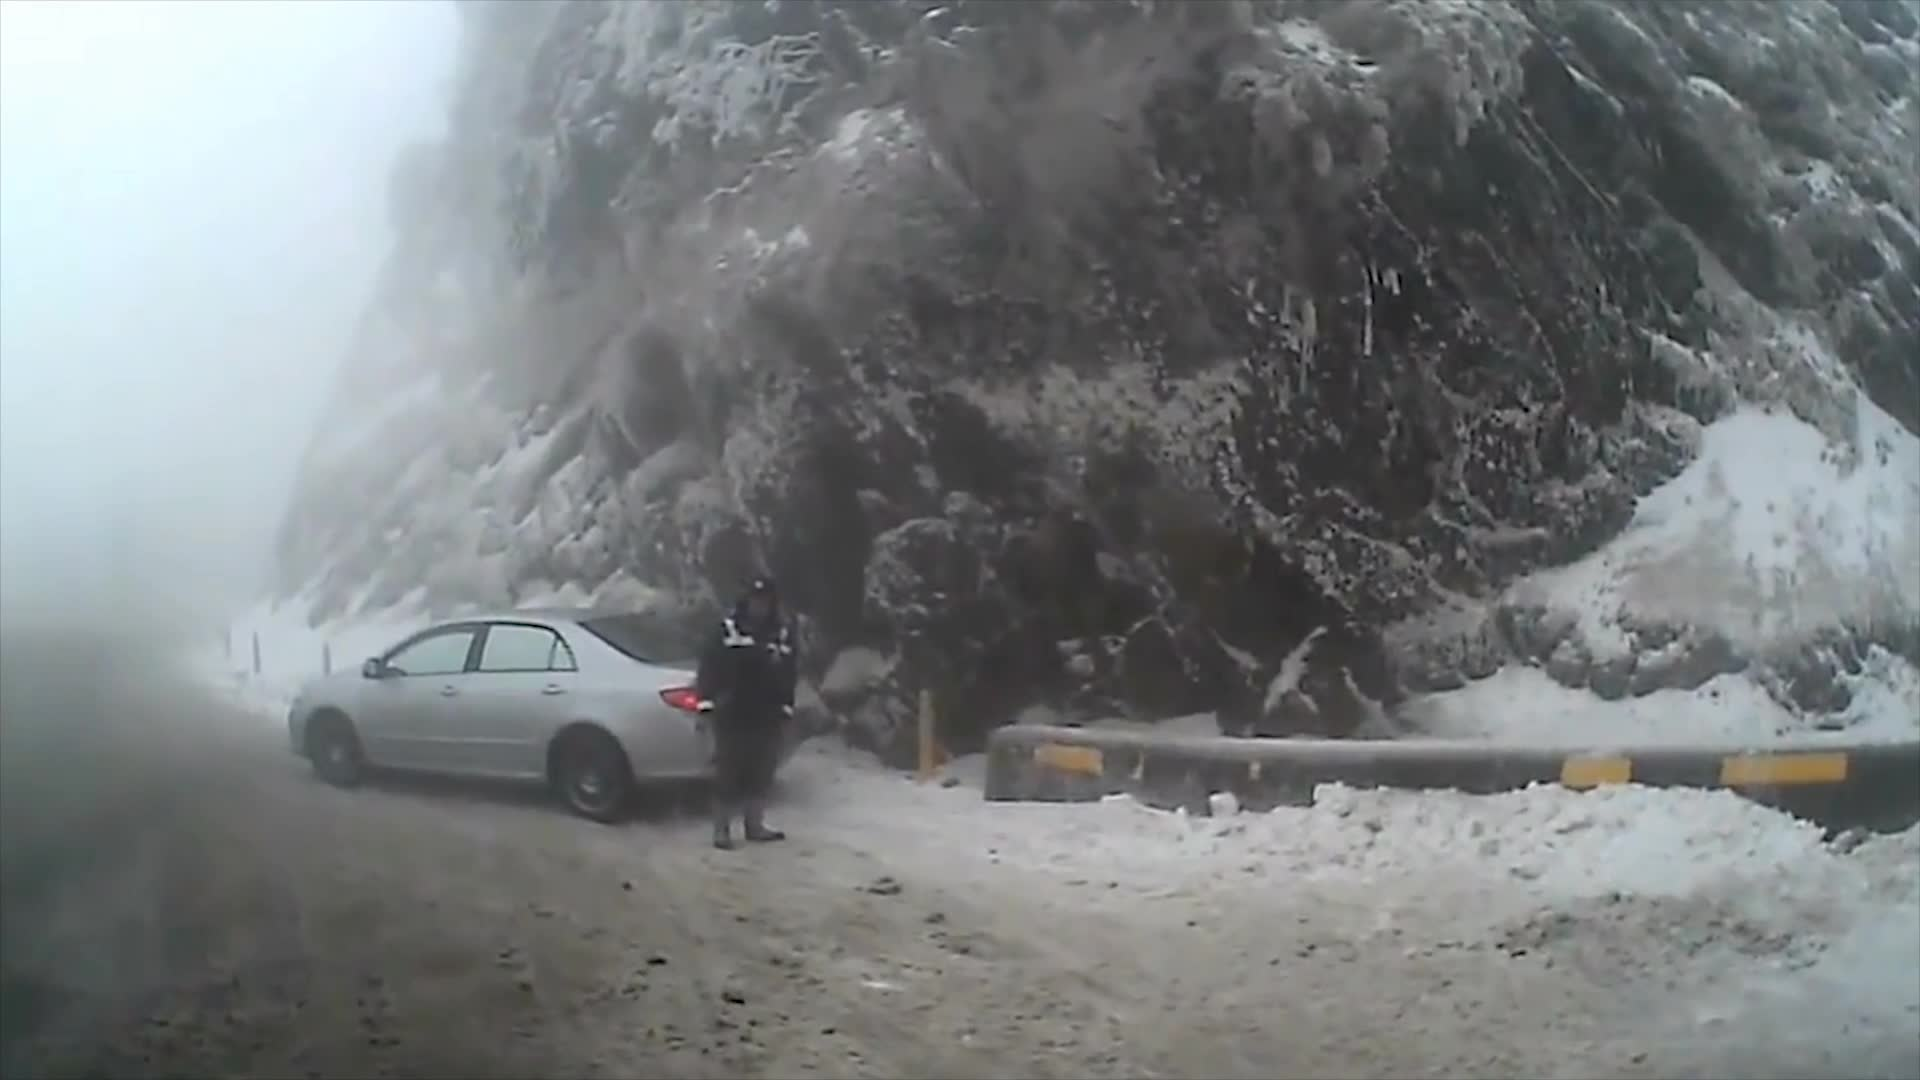pedestrian: (695, 565, 800, 841)
vehicle: (287, 601, 797, 824)
